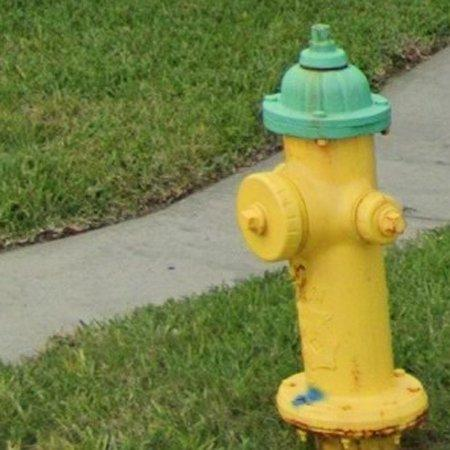a fire hydrant: (237, 24, 429, 450)
